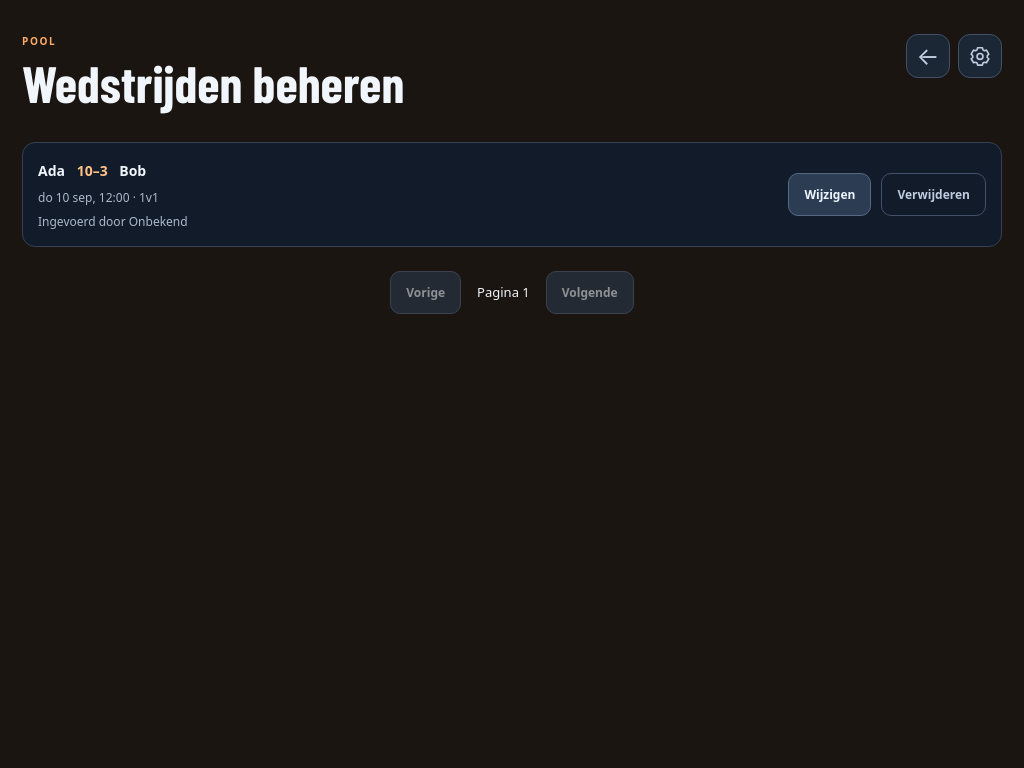
Test: keeps a conflict visible and reloads instead of retrying a mutation
Click the button "Wijzigen": coordinates (830, 195) [788, 173, 871, 216]
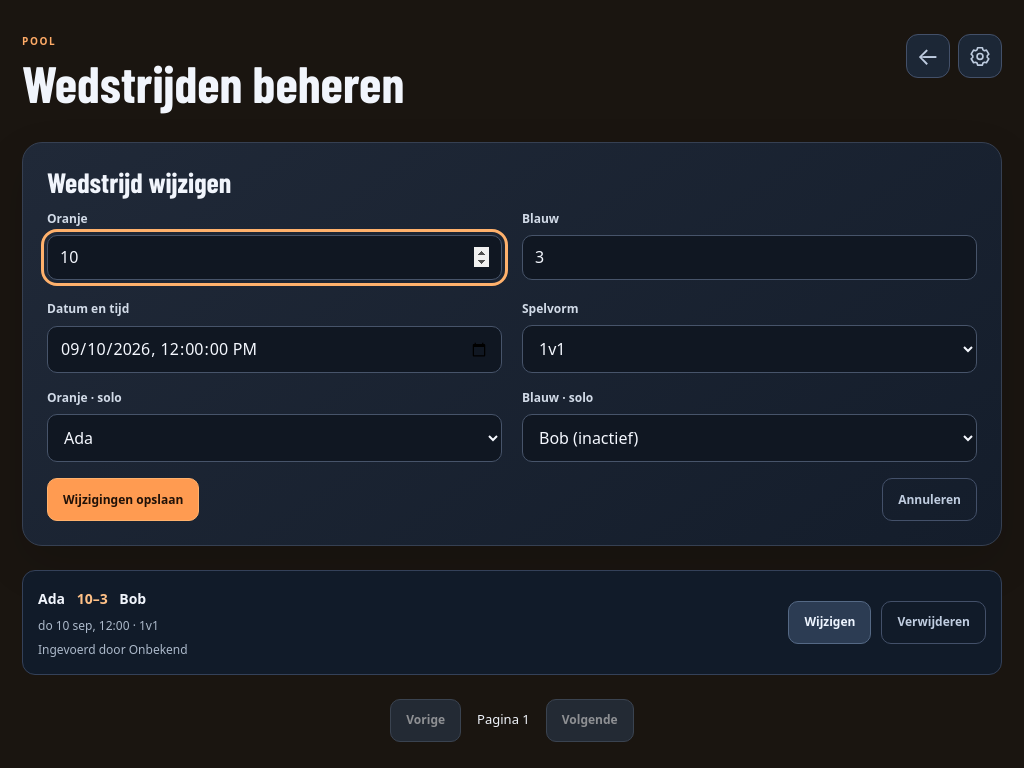
Submit the form, box [47, 210, 977, 521]
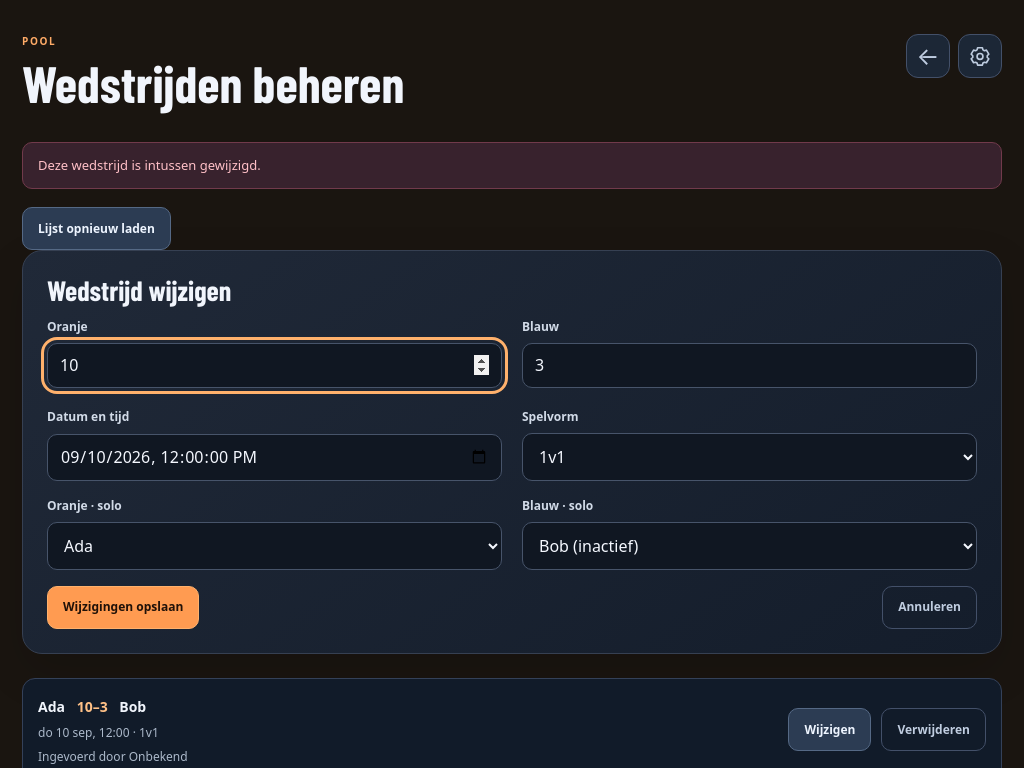
Expected: the form is shown, [47, 318, 977, 629]
Expected: the message "Deze wedstrijd is intussen gewijzigd." is shown, [22, 142, 1002, 189]
